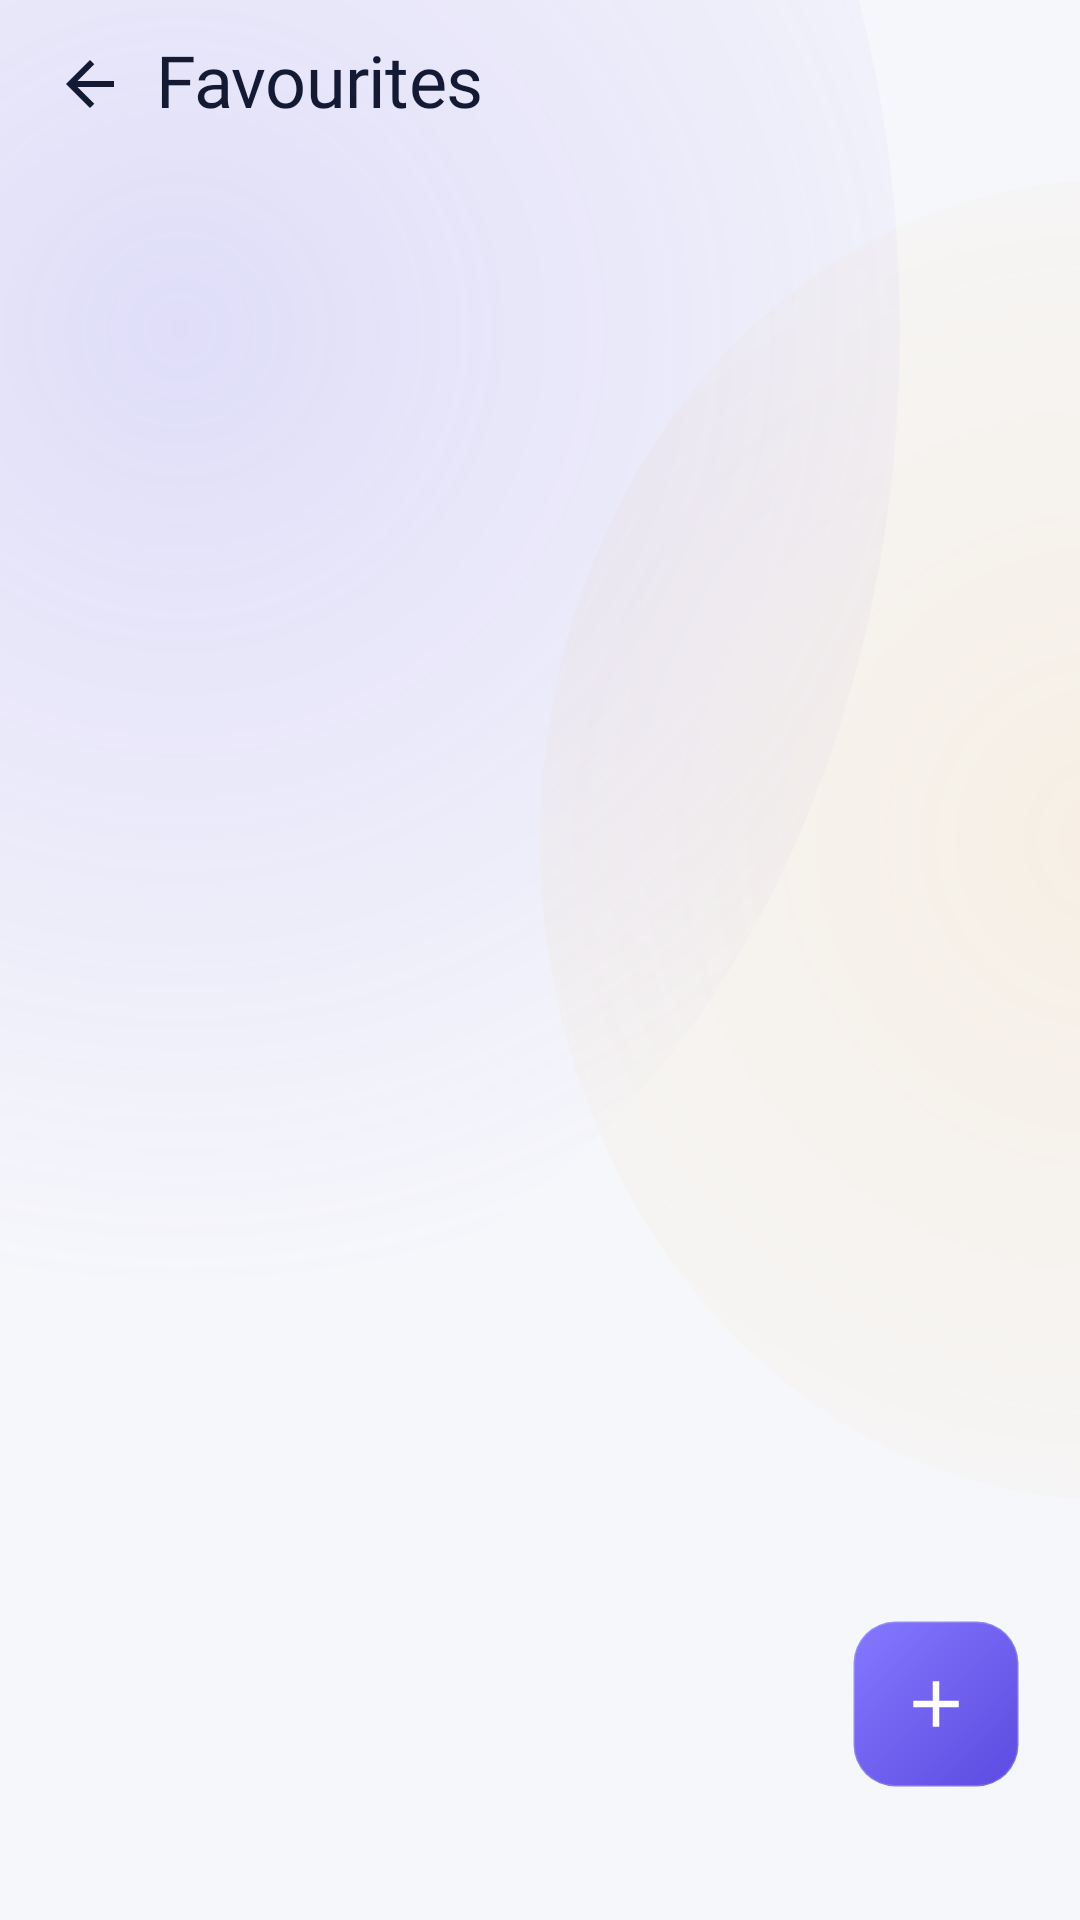

Where to tap for icons on this 1080 × 1920 app screen, as (x,y):
add: (936,1704)
arrow back: (90,84)
